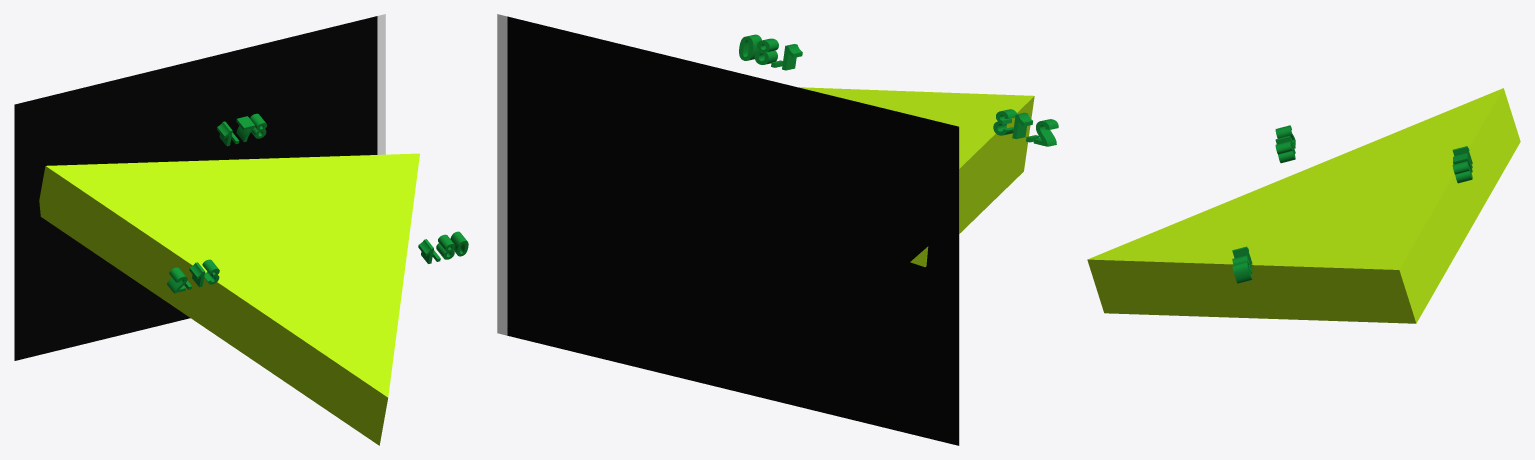
Rendered from pergunta24Obj.fbx.
3 renders of one model, left to right at view 1: azimuth 30°, elevation 25°; view 2: azimuth 150°, elevation 25°; view 3: azimuth 270°, elevation 25°, orthographic. The views are drawn at different scales.
Visible parts, largest first — view 1: root (×2), node_id38, node_id52, node_id45; view 2: root (×2), node_id52, node_id38; view 3: root, node_id38, node_id45, node_id52.
Boxes of the visible parts, x1,y1,x2,y2 form: root (×2): [14, 14, 419, 445]; node_id38: [167, 259, 219, 293]; node_id52: [418, 231, 468, 263]; node_id45: [217, 113, 266, 146]; root (×2): [497, 14, 1034, 445]; node_id52: [739, 34, 802, 70]; node_id38: [993, 109, 1058, 146]; root: [1087, 88, 1520, 323]; node_id38: [1275, 125, 1295, 163]; node_id45: [1452, 146, 1472, 183]; node_id52: [1232, 246, 1252, 283].
Bounding box in the file's own units: 0.418 × 0.276 × 0.4283.
Materials: 5 (2 with a texture image).
